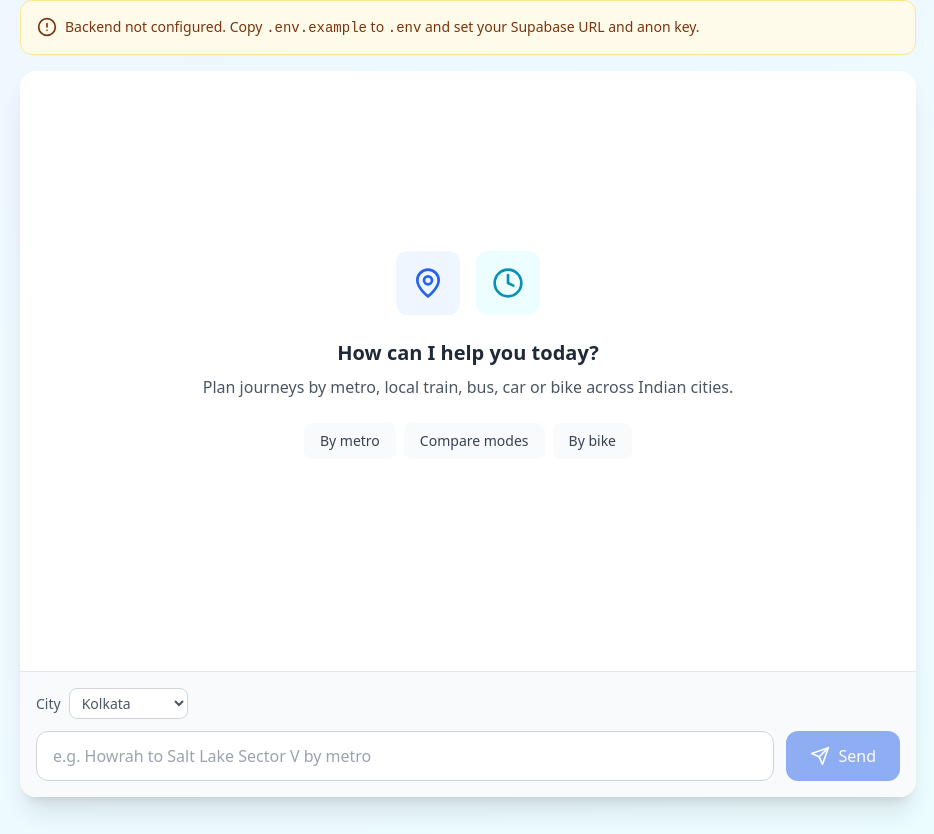
Scenario: TransportAssistant › fills the input from a suggestion chip
(page scrolled)
What coordinates should you click on to do the following:
click the button "By metro"
I would click on:
 (350, 441)
Its box is [304,423,396,459].
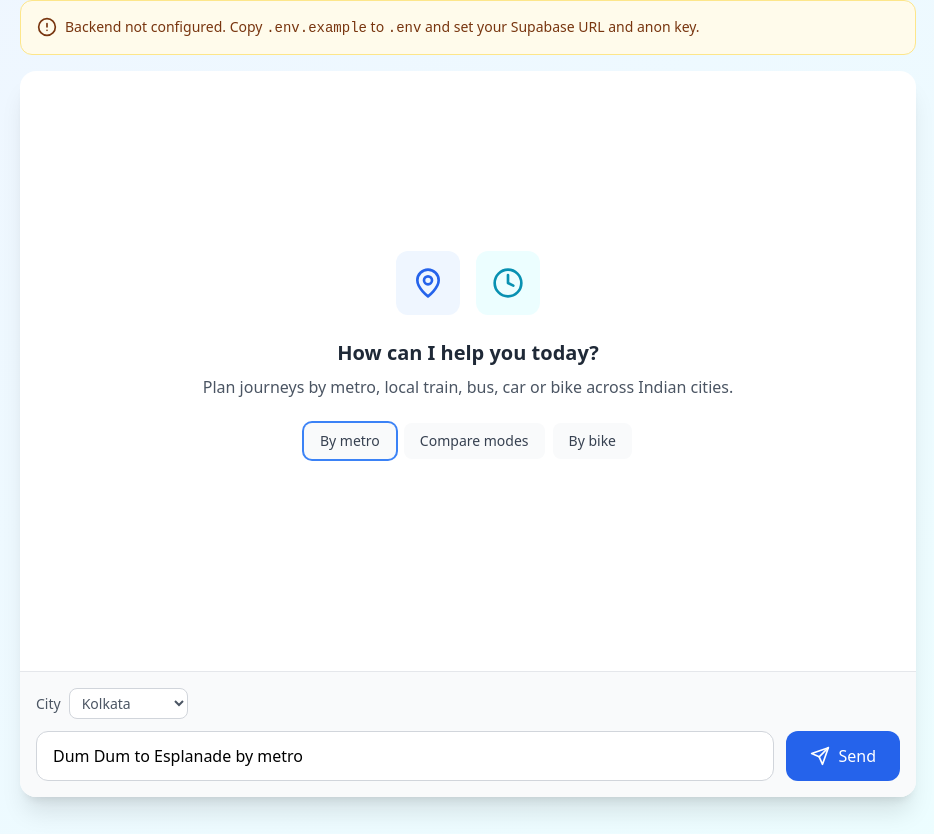
Result: the field named "ask about getting around" holds "Dum Dum to Esplanade by metro" at [36,731,774,781]
